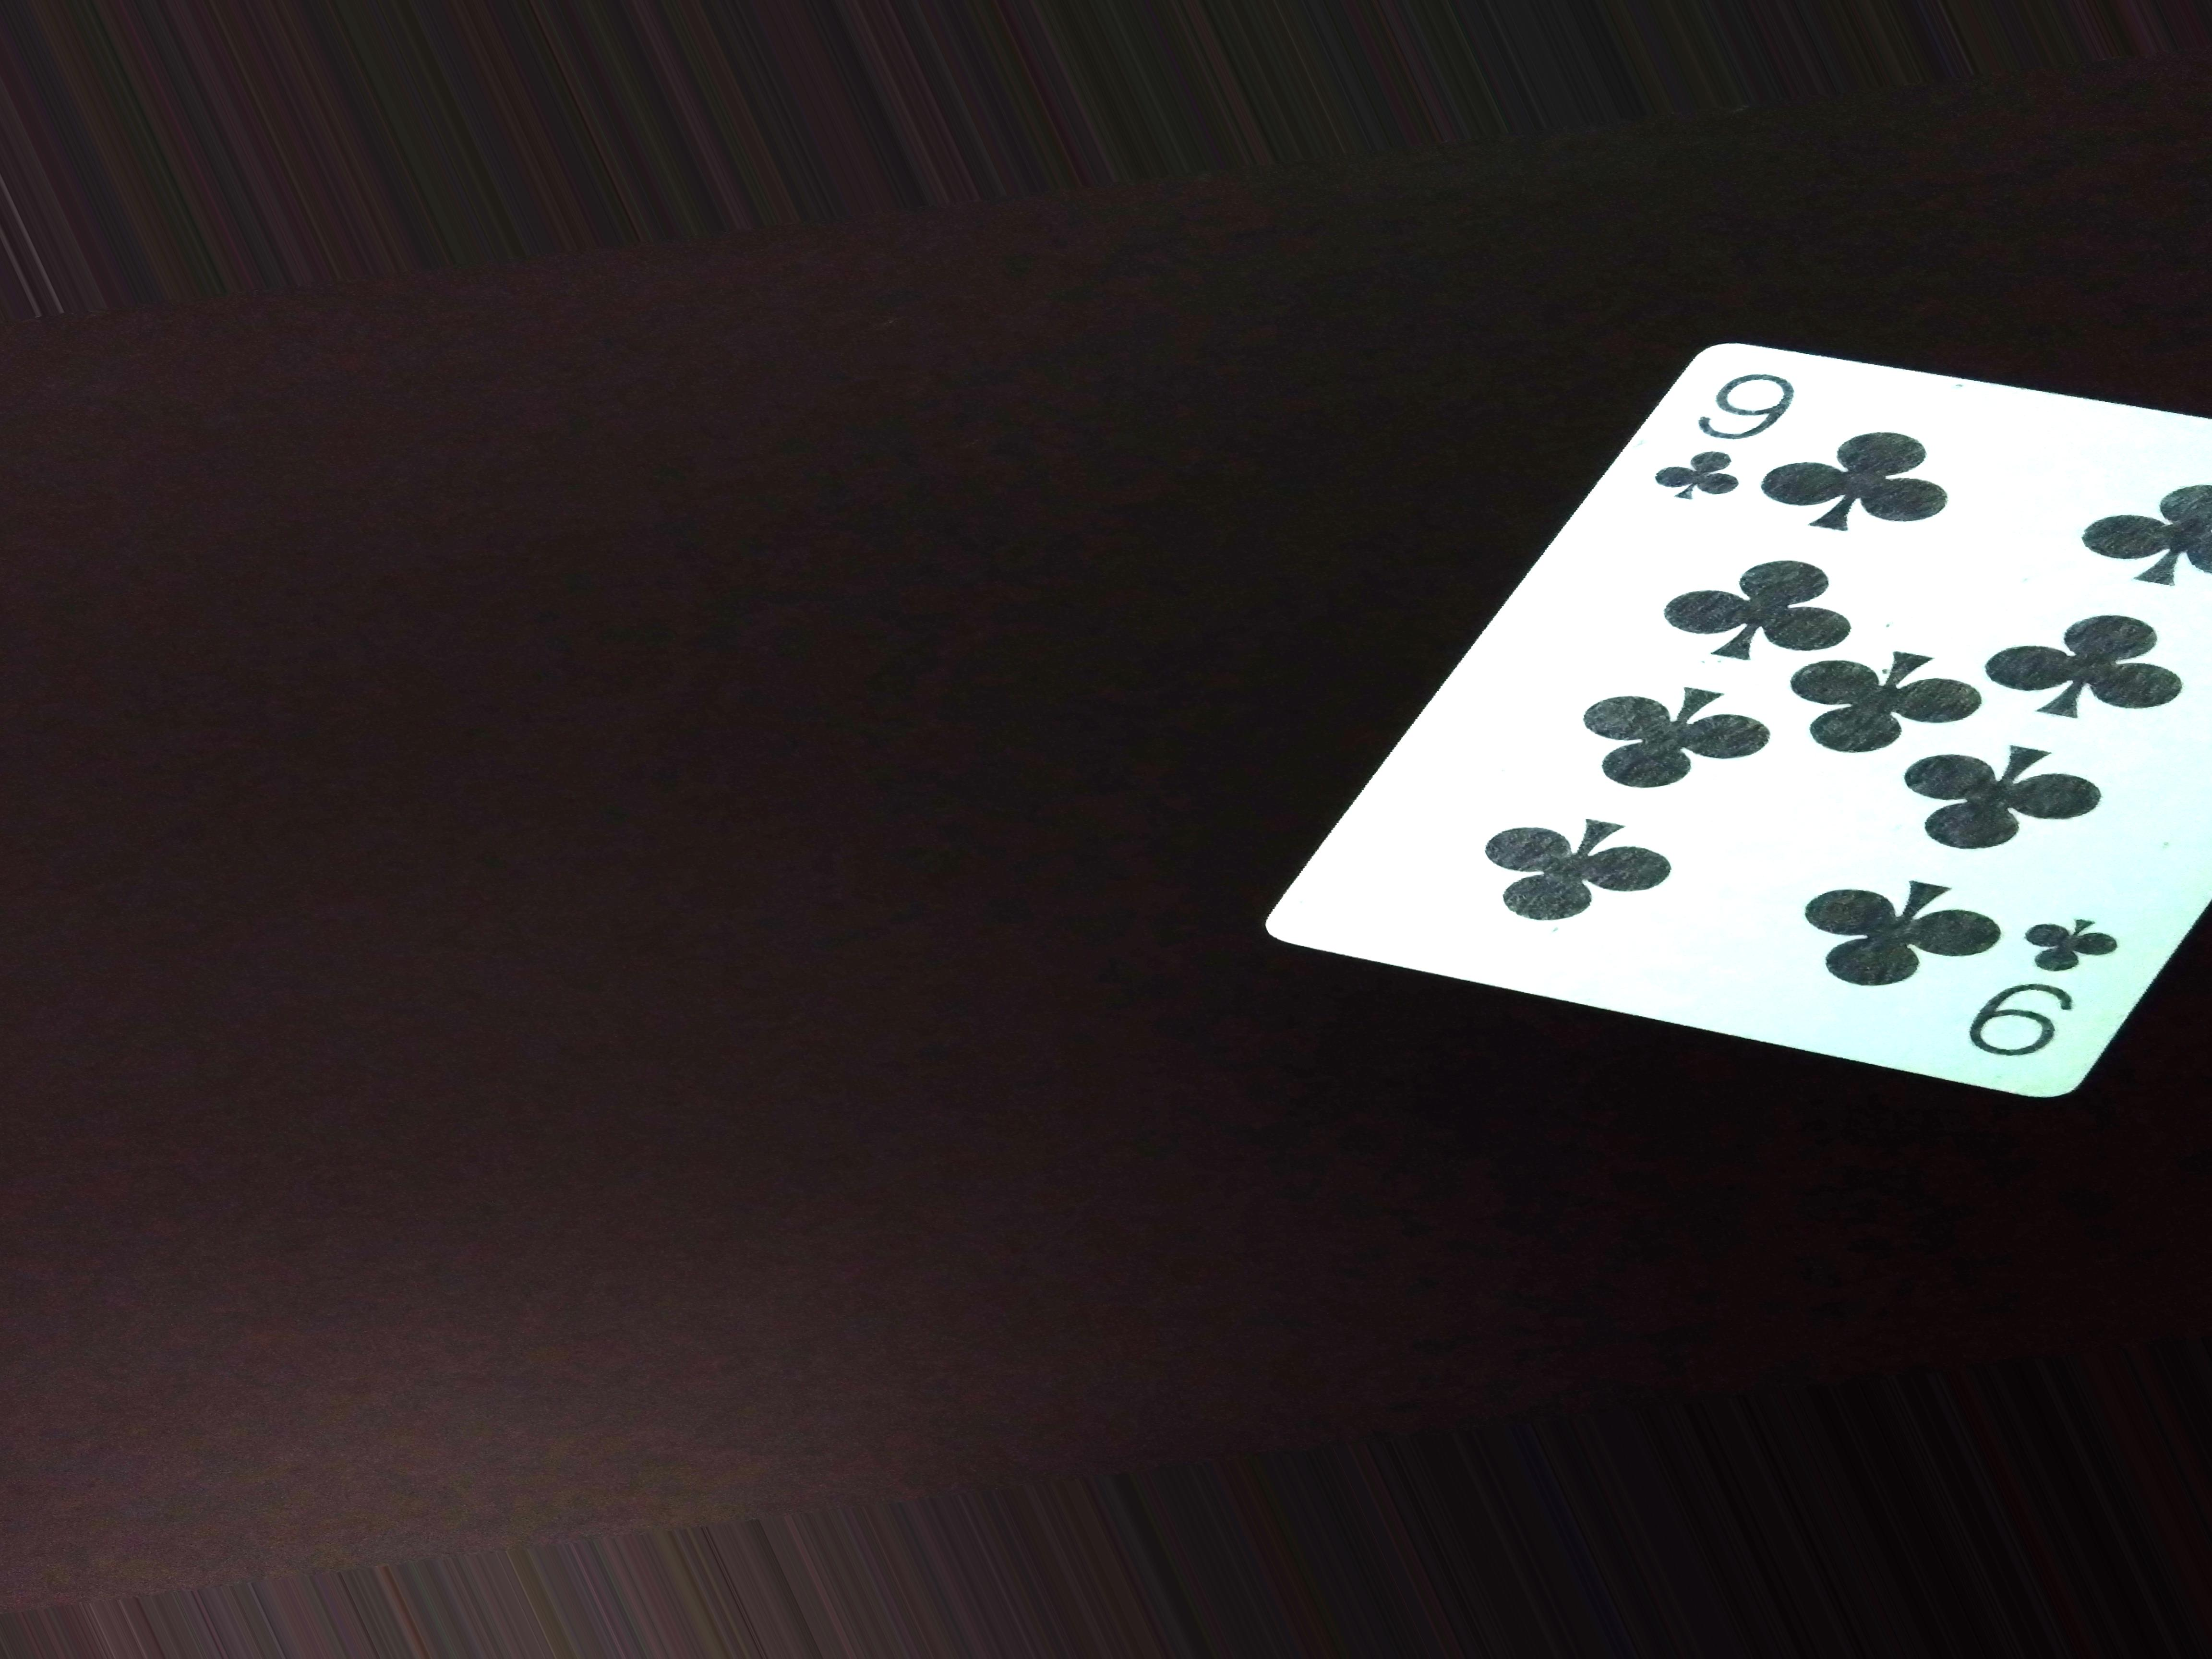9C: (1655, 357, 1794, 526)
